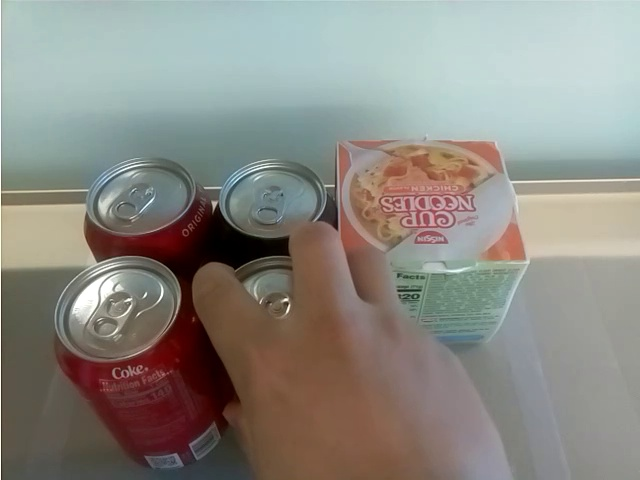cocacola: (46, 258, 222, 474)
cocacola-shadow: (81, 158, 212, 255)
cocacola-zero-shadow: (213, 153, 331, 253)
hand: (190, 221, 523, 477)
noodles-shadow: (337, 139, 520, 263)
